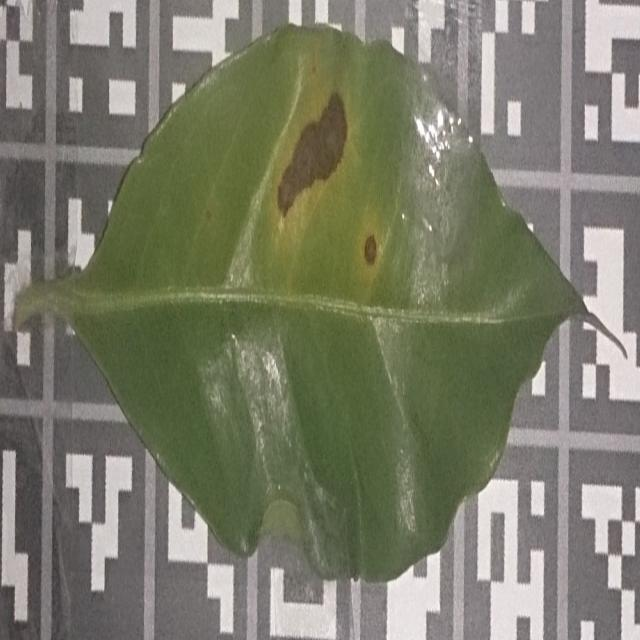Enfermedad-Mancha-de-hierro: (10, 26, 588, 587)
